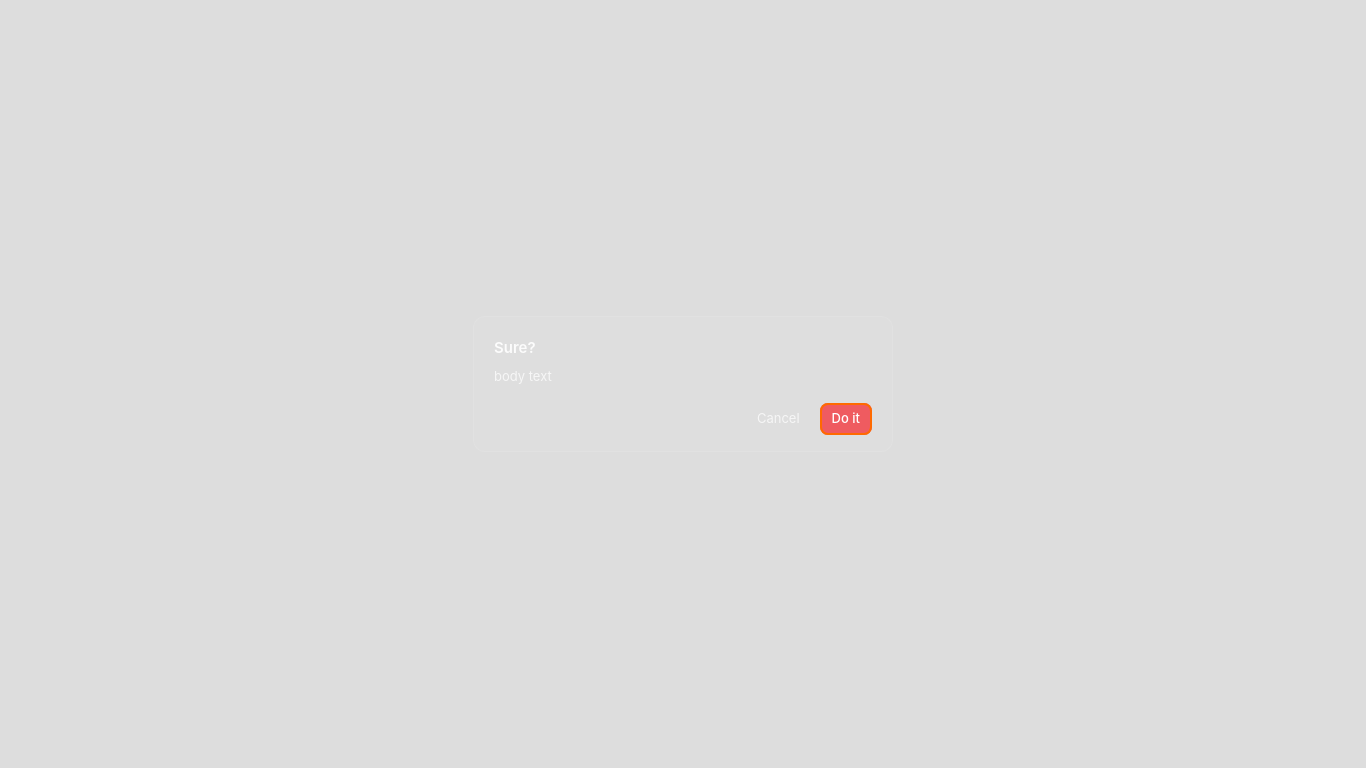
Test: ConfirmDialog › confirm shows a pending state once, then closes on success
Later steps or results of the test are not shown.
Click the button "Do it".
click(846, 419)  # box left=820, top=403, right=872, bottom=435
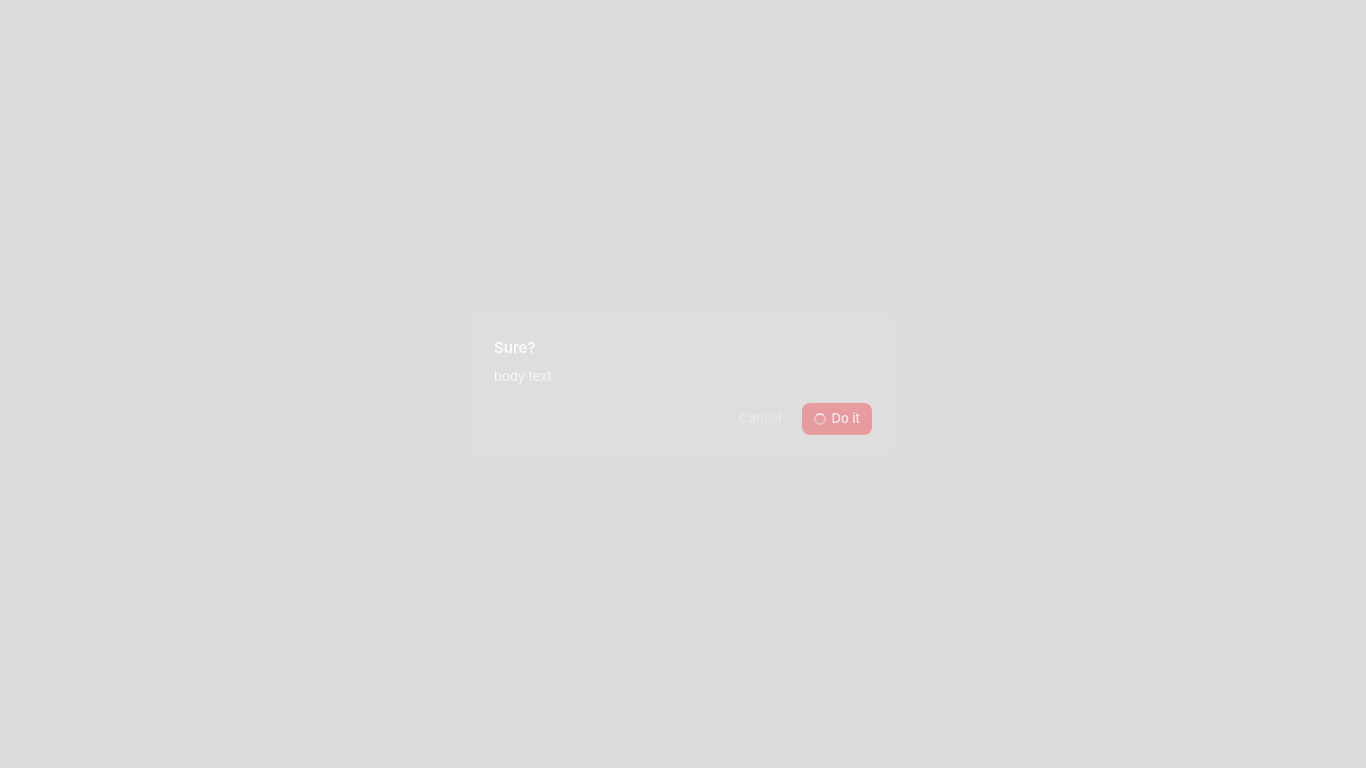
Click the button "Do it".
click(837, 419)  # box left=802, top=403, right=872, bottom=435
expect the button "Do it" is disabled: met, box left=802, top=403, right=872, bottom=435
